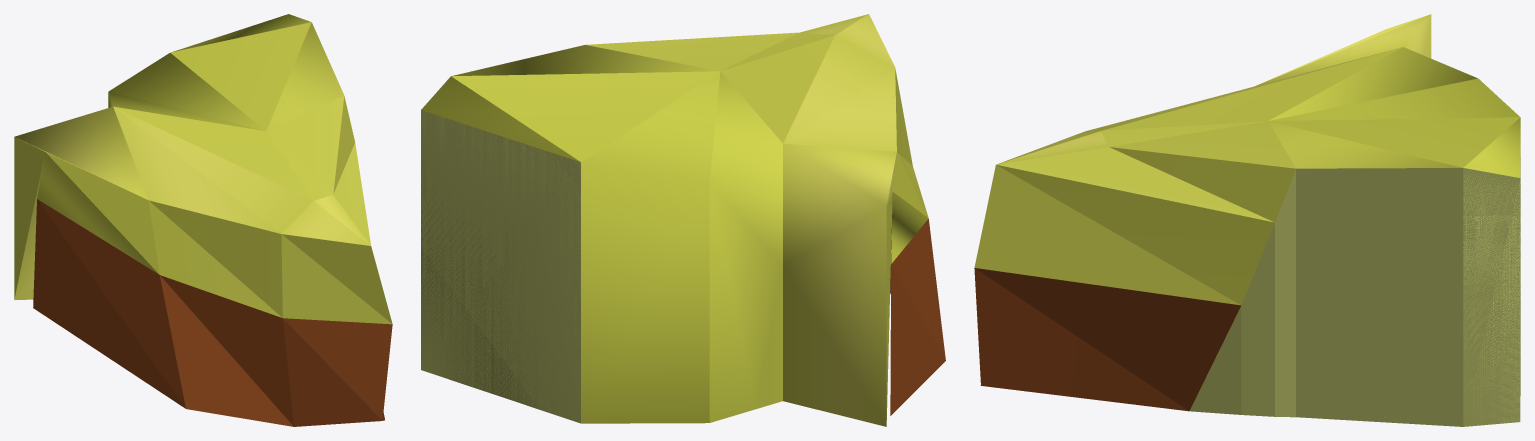
Rendered from europe_Italia.glb.
The picture shows the model from 3 angles, left to right: view 1: azimuth 30°, elevation 25°; view 2: azimuth 150°, elevation 25°; view 3: azimuth 270°, elevation 25°; orthographic projection. The views are drawn at different scales.
Parts seen in each view (by area): view 1: europe_Italia; view 2: europe_Italia; view 3: europe_Italia.
Part boxes in pixels (x1=…): europe_Italia: x1=14, y1=14, x2=392, y2=426; europe_Italia: x1=421, y1=14, x2=945, y2=426; europe_Italia: x1=974, y1=14, x2=1520, y2=426.
Size of the model in its own units: 0.7296 by 0.5571 by 0.8789.
Materials: 2 (1 with a texture image).
